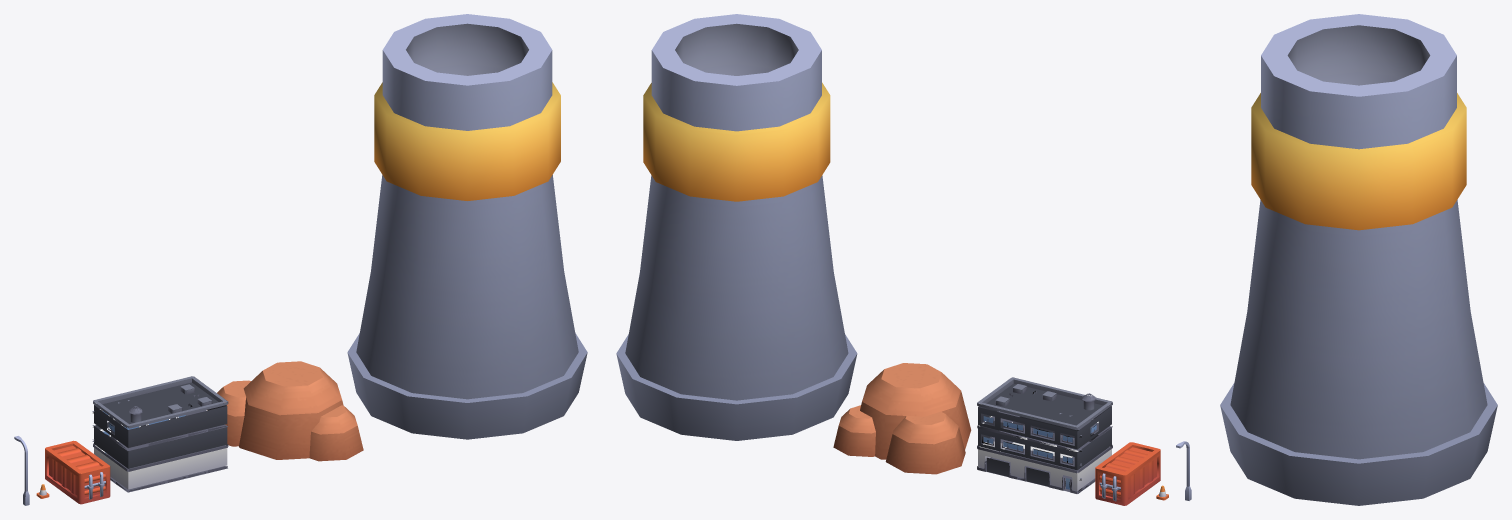
File: Docks.fbx
3 views of the same model, side by side, from view 1: azimuth 30°, elevation 25°; view 2: azimuth 150°, elevation 25°; view 3: azimuth 270°, elevation 25° (orthographic). The views are drawn at different scales.
Visible parts, largest first — view 1: Docks_Smokestack, Docks_Warehouse, Docks_ContainerStack, Docks_Container; view 2: Docks_Smokestack, Docks_Warehouse, Docks_ContainerStack, Docks_Container; view 3: Docks_Smokestack.
Boxes of the visible parts, <box> form: Docks_Smokestack: <box>347,14,587,439</box>; Docks_Warehouse: <box>92,376,228,492</box>; Docks_ContainerStack: <box>207,361,363,461</box>; Docks_Container: <box>45,440,110,504</box>; Docks_Smokestack: <box>616,14,857,440</box>; Docks_Warehouse: <box>977,377,1112,493</box>; Docks_ContainerStack: <box>833,363,971,474</box>; Docks_Container: <box>1095,442,1160,505</box>; Docks_Smokestack: <box>1220,14,1497,505</box>.
Size of the model in its own units: 152 by 90 by 57.18.
Materials: 6 (6 with a texture image).
